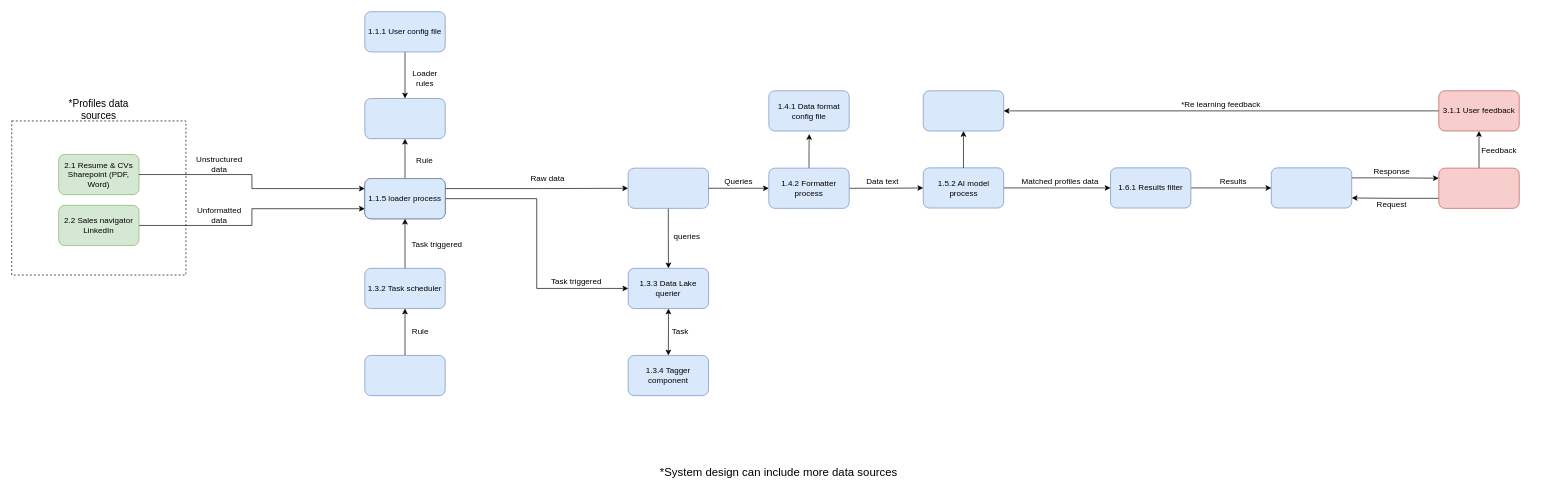
This 1544x494 diagram has some shape labels left out. The shapes that lost their labels are listed below. From the top down, each one's centre as x and y in pixels, then its label:
(404,118): 1.1.3 Supported sources
(963,110): 1.5.1 Model settings
(668,188): 1.2 Cloud Data Lake
(1311,187): 1.6.2 API
(1478,188): 3.1.2 Web app
(404,375): 1.3.1 Task schedule rule
